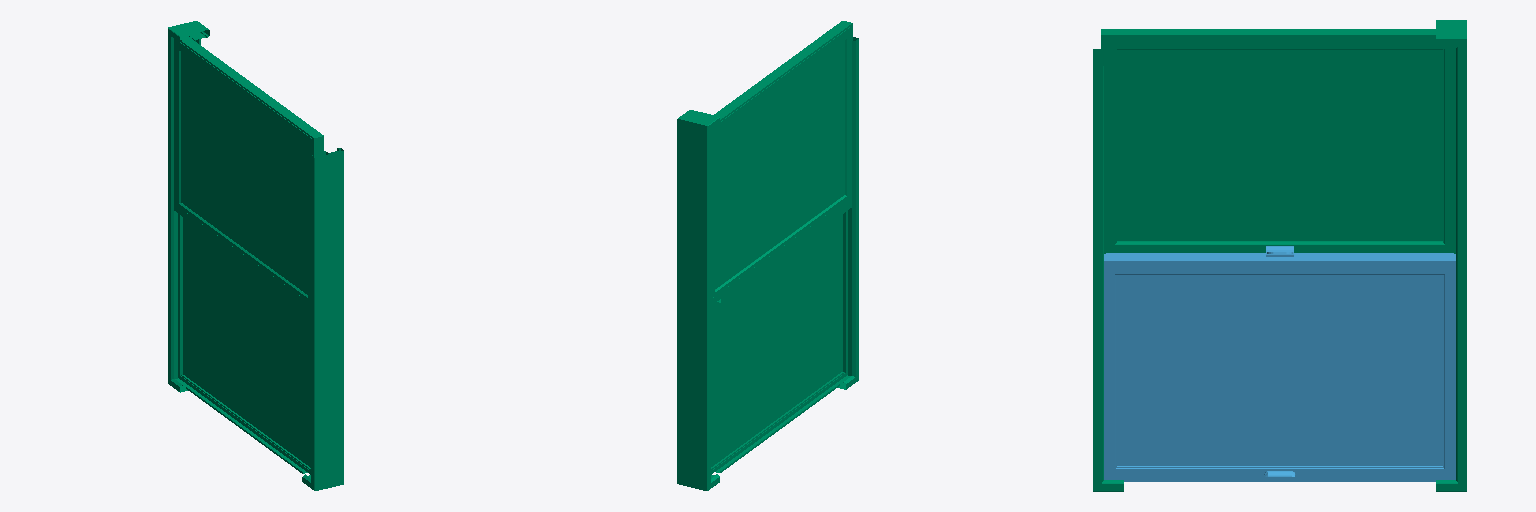
The robot description file, URDF, robot "partnet_70c46019577f4a398403d27d9479beba":
<?xml version="1.0" ?>
<robot name="partnet_70c46019577f4a398403d27d9479beba">
	<link name="base"/>
	<link name="link_0">
		<visual name="translation-1">
			<origin xyz="0 0 0"/>
			<geometry>
				<mesh filename="textured_objs/original-41.obj"/>
			</geometry>
		</visual>
		<visual name="translation-1">
			<origin xyz="0 0 0"/>
			<geometry>
				<mesh filename="textured_objs/original-36.obj"/>
			</geometry>
		</visual>
		<visual name="translation-1">
			<origin xyz="0 0 0"/>
			<geometry>
				<mesh filename="textured_objs/original-46.obj"/>
			</geometry>
		</visual>
		<visual name="translation-1">
			<origin xyz="0 0 0"/>
			<geometry>
				<mesh filename="textured_objs/original-45.obj"/>
			</geometry>
		</visual>
		<visual name="translation-1">
			<origin xyz="0 0 0"/>
			<geometry>
				<mesh filename="textured_objs/original-32.obj"/>
			</geometry>
		</visual>
		<visual name="translation-1">
			<origin xyz="0 0 0"/>
			<geometry>
				<mesh filename="textured_objs/original-37.obj"/>
			</geometry>
		</visual>
		<visual name="translation-1">
			<origin xyz="0 0 0"/>
			<geometry>
				<mesh filename="textured_objs/original-39.obj"/>
			</geometry>
		</visual>
		<visual name="translation-1">
			<origin xyz="0 0 0"/>
			<geometry>
				<mesh filename="textured_objs/original-43.obj"/>
			</geometry>
		</visual>
		<visual name="translation-1">
			<origin xyz="0 0 0"/>
			<geometry>
				<mesh filename="textured_objs/original-34.obj"/>
			</geometry>
		</visual>
		<visual name="translation-1">
			<origin xyz="0 0 0"/>
			<geometry>
				<mesh filename="textured_objs/original-35.obj"/>
			</geometry>
		</visual>
		<visual name="translation-1">
			<origin xyz="0 0 0"/>
			<geometry>
				<mesh filename="textured_objs/original-38.obj"/>
			</geometry>
		</visual>
		<visual name="translation-1">
			<origin xyz="0 0 0"/>
			<geometry>
				<mesh filename="textured_objs/original-33.obj"/>
			</geometry>
		</visual>
		<visual name="translation-1">
			<origin xyz="0 0 0"/>
			<geometry>
				<mesh filename="textured_objs/original-40.obj"/>
			</geometry>
		</visual>
		<visual name="translation-1">
			<origin xyz="0 0 0"/>
			<geometry>
				<mesh filename="textured_objs/original-42.obj"/>
			</geometry>
		</visual>
		<collision>
			<origin xyz="0 0 0"/>
			<geometry>
				<mesh filename="textured_objs/original-41.obj"/>
			</geometry>
		</collision>
		<collision>
			<origin xyz="0 0 0"/>
			<geometry>
				<mesh filename="textured_objs/original-36.obj"/>
			</geometry>
		</collision>
		<collision>
			<origin xyz="0 0 0"/>
			<geometry>
				<mesh filename="textured_objs/original-46.obj"/>
			</geometry>
		</collision>
		<collision>
			<origin xyz="0 0 0"/>
			<geometry>
				<mesh filename="textured_objs/original-45.obj"/>
			</geometry>
		</collision>
		<collision>
			<origin xyz="0 0 0"/>
			<geometry>
				<mesh filename="textured_objs/original-32.obj"/>
			</geometry>
		</collision>
		<collision>
			<origin xyz="0 0 0"/>
			<geometry>
				<mesh filename="textured_objs/original-37.obj"/>
			</geometry>
		</collision>
		<collision>
			<origin xyz="0 0 0"/>
			<geometry>
				<mesh filename="textured_objs/original-39.obj"/>
			</geometry>
		</collision>
		<collision>
			<origin xyz="0 0 0"/>
			<geometry>
				<mesh filename="textured_objs/original-43.obj"/>
			</geometry>
		</collision>
		<collision>
			<origin xyz="0 0 0"/>
			<geometry>
				<mesh filename="textured_objs/original-34.obj"/>
			</geometry>
		</collision>
		<collision>
			<origin xyz="0 0 0"/>
			<geometry>
				<mesh filename="textured_objs/original-35.obj"/>
			</geometry>
		</collision>
		<collision>
			<origin xyz="0 0 0"/>
			<geometry>
				<mesh filename="textured_objs/original-38.obj"/>
			</geometry>
		</collision>
		<collision>
			<origin xyz="0 0 0"/>
			<geometry>
				<mesh filename="textured_objs/original-33.obj"/>
			</geometry>
		</collision>
		<collision>
			<origin xyz="0 0 0"/>
			<geometry>
				<mesh filename="textured_objs/original-40.obj"/>
			</geometry>
		</collision>
		<collision>
			<origin xyz="0 0 0"/>
			<geometry>
				<mesh filename="textured_objs/original-42.obj"/>
			</geometry>
		</collision>
	</link>
	<joint name="joint_0" type="prismatic">
		<origin xyz="0 0 0"/>
		<axis xyz="0 -1 0"/>
		<child link="link_0"/>
		<parent link="link_1"/>
		<limit lower="-0.7000000000000002" upper="0"/>
	</joint>
	<link name="link_1">
		<visual name="base_body-2">
			<origin xyz="0 0 0"/>
			<geometry>
				<mesh filename="textured_objs/original-29.obj"/>
			</geometry>
		</visual>
		<visual name="base_body-2">
			<origin xyz="0 0 0"/>
			<geometry>
				<mesh filename="textured_objs/original-21.obj"/>
			</geometry>
		</visual>
		<visual name="base_body-2">
			<origin xyz="0 0 0"/>
			<geometry>
				<mesh filename="textured_objs/original-30.obj"/>
			</geometry>
		</visual>
		<visual name="base_body-2">
			<origin xyz="0 0 0"/>
			<geometry>
				<mesh filename="textured_objs/original-28.obj"/>
			</geometry>
		</visual>
		<visual name="base_body-2">
			<origin xyz="0 0 0"/>
			<geometry>
				<mesh filename="textured_objs/original-52.obj"/>
			</geometry>
		</visual>
		<visual name="base_body-2">
			<origin xyz="0 0 0"/>
			<geometry>
				<mesh filename="textured_objs/original-22.obj"/>
			</geometry>
		</visual>
		<visual name="base_body-2">
			<origin xyz="0 0 0"/>
			<geometry>
				<mesh filename="textured_objs/original-26.obj"/>
			</geometry>
		</visual>
		<visual name="base_body-2">
			<origin xyz="0 0 0"/>
			<geometry>
				<mesh filename="textured_objs/original-4.obj"/>
			</geometry>
		</visual>
		<visual name="base_body-2">
			<origin xyz="0 0 0"/>
			<geometry>
				<mesh filename="textured_objs/original-3.obj"/>
			</geometry>
		</visual>
		<visual name="base_body-2">
			<origin xyz="0 0 0"/>
			<geometry>
				<mesh filename="textured_objs/original-2.obj"/>
			</geometry>
		</visual>
		<visual name="base_body-2">
			<origin xyz="0 0 0"/>
			<geometry>
				<mesh filename="textured_objs/original-16.obj"/>
			</geometry>
		</visual>
		<visual name="base_body-2">
			<origin xyz="0 0 0"/>
			<geometry>
				<mesh filename="textured_objs/original-8.obj"/>
			</geometry>
		</visual>
		<visual name="base_body-2">
			<origin xyz="0 0 0"/>
			<geometry>
				<mesh filename="textured_objs/original-13.obj"/>
			</geometry>
		</visual>
		<visual name="base_body-2">
			<origin xyz="0 0 0"/>
			<geometry>
				<mesh filename="textured_objs/original-9.obj"/>
			</geometry>
		</visual>
		<visual name="base_body-2">
			<origin xyz="0 0 0"/>
			<geometry>
				<mesh filename="textured_objs/original-49.obj"/>
			</geometry>
		</visual>
		<visual name="base_body-2">
			<origin xyz="0 0 0"/>
			<geometry>
				<mesh filename="textured_objs/original-5.obj"/>
			</geometry>
		</visual>
		<visual name="base_body-2">
			<origin xyz="0 0 0"/>
			<geometry>
				<mesh filename="textured_objs/original-54.obj"/>
			</geometry>
		</visual>
		<visual name="base_body-2">
			<origin xyz="0 0 0"/>
			<geometry>
				<mesh filename="textured_objs/original-27.obj"/>
			</geometry>
		</visual>
		<visual name="base_body-2">
			<origin xyz="0 0 0"/>
			<geometry>
				<mesh filename="textured_objs/original-51.obj"/>
			</geometry>
		</visual>
		<visual name="base_body-2">
			<origin xyz="0 0 0"/>
			<geometry>
				<mesh filename="textured_objs/original-55.obj"/>
			</geometry>
		</visual>
		<visual name="base_body-2">
			<origin xyz="0 0 0"/>
			<geometry>
				<mesh filename="textured_objs/original-50.obj"/>
			</geometry>
		</visual>
		<visual name="base_body-2">
			<origin xyz="0 0 0"/>
			<geometry>
				<mesh filename="textured_objs/original-6.obj"/>
			</geometry>
		</visual>
		<visual name="base_body-2">
			<origin xyz="0 0 0"/>
			<geometry>
				<mesh filename="textured_objs/original-48.obj"/>
			</geometry>
		</visual>
		<visual name="base_body-2">
			<origin xyz="0 0 0"/>
			<geometry>
				<mesh filename="textured_objs/original-15.obj"/>
			</geometry>
		</visual>
		<visual name="base_body-2">
			<origin xyz="0 0 0"/>
			<geometry>
				<mesh filename="textured_objs/original-56.obj"/>
			</geometry>
		</visual>
		<visual name="base_body-2">
			<origin xyz="0 0 0"/>
			<geometry>
				<mesh filename="textured_objs/original-23.obj"/>
			</geometry>
		</visual>
		<visual name="base_body-2">
			<origin xyz="0 0 0"/>
			<geometry>
				<mesh filename="textured_objs/original-11.obj"/>
			</geometry>
		</visual>
		<visual name="base_body-2">
			<origin xyz="0 0 0"/>
			<geometry>
				<mesh filename="textured_objs/original-18.obj"/>
			</geometry>
		</visual>
		<visual name="base_body-2">
			<origin xyz="0 0 0"/>
			<geometry>
				<mesh filename="textured_objs/original-25.obj"/>
			</geometry>
		</visual>
		<visual name="base_body-2">
			<origin xyz="0 0 0"/>
			<geometry>
				<mesh filename="textured_objs/original-17.obj"/>
			</geometry>
		</visual>
		<visual name="base_body-2">
			<origin xyz="0 0 0"/>
			<geometry>
				<mesh filename="textured_objs/original-12.obj"/>
			</geometry>
		</visual>
		<visual name="base_body-2">
			<origin xyz="0 0 0"/>
			<geometry>
				<mesh filename="textured_objs/original-24.obj"/>
			</geometry>
		</visual>
		<visual name="base_body-2">
			<origin xyz="0 0 0"/>
			<geometry>
				<mesh filename="textured_objs/original-20.obj"/>
			</geometry>
		</visual>
		<visual name="base_body-2">
			<origin xyz="0 0 0"/>
			<geometry>
				<mesh filename="textured_objs/original-53.obj"/>
			</geometry>
		</visual>
		<visual name="base_body-2">
			<origin xyz="0 0 0"/>
			<geometry>
				<mesh filename="textured_objs/original-7.obj"/>
			</geometry>
		</visual>
		<visual name="base_body-2">
			<origin xyz="0 0 0"/>
			<geometry>
				<mesh filename="textured_objs/original-14.obj"/>
			</geometry>
		</visual>
		<collision>
			<origin xyz="0 0 0"/>
			<geometry>
				<mesh filename="textured_objs/original-29.obj"/>
			</geometry>
		</collision>
		<collision>
			<origin xyz="0 0 0"/>
			<geometry>
				<mesh filename="textured_objs/original-21.obj"/>
			</geometry>
		</collision>
		<collision>
			<origin xyz="0 0 0"/>
			<geometry>
				<mesh filename="textured_objs/original-30.obj"/>
			</geometry>
		</collision>
		<collision>
			<origin xyz="0 0 0"/>
			<geometry>
				<mesh filename="textured_objs/original-28.obj"/>
			</geometry>
		</collision>
		<collision>
			<origin xyz="0 0 0"/>
			<geometry>
				<mesh filename="textured_objs/original-52.obj"/>
			</geometry>
		</collision>
		<collision>
			<origin xyz="0 0 0"/>
			<geometry>
				<mesh filename="textured_objs/original-22.obj"/>
			</geometry>
		</collision>
		<collision>
			<origin xyz="0 0 0"/>
			<geometry>
				<mesh filename="textured_objs/original-26.obj"/>
			</geometry>
		</collision>
		<collision>
			<origin xyz="0 0 0"/>
			<geometry>
				<mesh filename="textured_objs/original-4.obj"/>
			</geometry>
		</collision>
		<collision>
			<origin xyz="0 0 0"/>
			<geometry>
				<mesh filename="textured_objs/original-3.obj"/>
			</geometry>
		</collision>
		<collision>
			<origin xyz="0 0 0"/>
			<geometry>
				<mesh filename="textured_objs/original-2.obj"/>
			</geometry>
		</collision>
		<collision>
			<origin xyz="0 0 0"/>
			<geometry>
				<mesh filename="textured_objs/original-16.obj"/>
			</geometry>
		</collision>
		<collision>
			<origin xyz="0 0 0"/>
			<geometry>
				<mesh filename="textured_objs/original-8.obj"/>
			</geometry>
		</collision>
		<collision>
			<origin xyz="0 0 0"/>
			<geometry>
				<mesh filename="textured_objs/original-13.obj"/>
			</geometry>
		</collision>
		<collision>
			<origin xyz="0 0 0"/>
			<geometry>
				<mesh filename="textured_objs/original-9.obj"/>
			</geometry>
		</collision>
		<collision>
			<origin xyz="0 0 0"/>
			<geometry>
				<mesh filename="textured_objs/original-49.obj"/>
			</geometry>
		</collision>
		<collision>
			<origin xyz="0 0 0"/>
			<geometry>
				<mesh filename="textured_objs/original-5.obj"/>
			</geometry>
		</collision>
		<collision>
			<origin xyz="0 0 0"/>
			<geometry>
				<mesh filename="textured_objs/original-54.obj"/>
			</geometry>
		</collision>
		<collision>
			<origin xyz="0 0 0"/>
			<geometry>
				<mesh filename="textured_objs/original-27.obj"/>
			</geometry>
		</collision>
		<collision>
			<origin xyz="0 0 0"/>
			<geometry>
				<mesh filename="textured_objs/original-51.obj"/>
			</geometry>
		</collision>
		<collision>
			<origin xyz="0 0 0"/>
			<geometry>
				<mesh filename="textured_objs/original-55.obj"/>
			</geometry>
		</collision>
		<collision>
			<origin xyz="0 0 0"/>
			<geometry>
				<mesh filename="textured_objs/original-50.obj"/>
			</geometry>
		</collision>
		<collision>
			<origin xyz="0 0 0"/>
			<geometry>
				<mesh filename="textured_objs/original-6.obj"/>
			</geometry>
		</collision>
		<collision>
			<origin xyz="0 0 0"/>
			<geometry>
				<mesh filename="textured_objs/original-48.obj"/>
			</geometry>
		</collision>
		<collision>
			<origin xyz="0 0 0"/>
			<geometry>
				<mesh filename="textured_objs/original-15.obj"/>
			</geometry>
		</collision>
		<collision>
			<origin xyz="0 0 0"/>
			<geometry>
				<mesh filename="textured_objs/original-56.obj"/>
			</geometry>
		</collision>
		<collision>
			<origin xyz="0 0 0"/>
			<geometry>
				<mesh filename="textured_objs/original-23.obj"/>
			</geometry>
		</collision>
		<collision>
			<origin xyz="0 0 0"/>
			<geometry>
				<mesh filename="textured_objs/original-11.obj"/>
			</geometry>
		</collision>
		<collision>
			<origin xyz="0 0 0"/>
			<geometry>
				<mesh filename="textured_objs/original-18.obj"/>
			</geometry>
		</collision>
		<collision>
			<origin xyz="0 0 0"/>
			<geometry>
				<mesh filename="textured_objs/original-25.obj"/>
			</geometry>
		</collision>
		<collision>
			<origin xyz="0 0 0"/>
			<geometry>
				<mesh filename="textured_objs/original-17.obj"/>
			</geometry>
		</collision>
		<collision>
			<origin xyz="0 0 0"/>
			<geometry>
				<mesh filename="textured_objs/original-12.obj"/>
			</geometry>
		</collision>
		<collision>
			<origin xyz="0 0 0"/>
			<geometry>
				<mesh filename="textured_objs/original-24.obj"/>
			</geometry>
		</collision>
		<collision>
			<origin xyz="0 0 0"/>
			<geometry>
				<mesh filename="textured_objs/original-20.obj"/>
			</geometry>
		</collision>
		<collision>
			<origin xyz="0 0 0"/>
			<geometry>
				<mesh filename="textured_objs/original-53.obj"/>
			</geometry>
		</collision>
		<collision>
			<origin xyz="0 0 0"/>
			<geometry>
				<mesh filename="textured_objs/original-7.obj"/>
			</geometry>
		</collision>
		<collision>
			<origin xyz="0 0 0"/>
			<geometry>
				<mesh filename="textured_objs/original-14.obj"/>
			</geometry>
		</collision>
	</link>
	<joint name="joint_1" type="fixed">
		<origin rpy="1.570796326794897 0 -1.570796326794897" xyz="0 0 0"/>
		<child link="link_1"/>
		<parent link="base"/>
	</joint>
</robot>

--- Render facts (derived) ---
Views: 3 orthographic renders of the robot side by side, from view 1: azimuth 30°, elevation 25°; view 2: azimuth 150°, elevation 25°; view 3: azimuth 270°, elevation 25°.
Model partnet_70c46019577f4a398403d27d9479beba with 3 links and 2 joints (1 prismatic, 1 fixed), rooted at base, posed all joints at 0.
Links seen in each view (by area): view 1: link_1; view 2: link_1; view 3: link_1, link_0.
Link boxes in pixels (x1,y1,x2,y2): link_1: [168, 21, 343, 490]; link_1: [677, 21, 858, 490]; link_1: [1093, 20, 1466, 491]; link_0: [1104, 246, 1455, 481].
Size in the robot's own frame: 0.1417 by 1.17 by 1.56 metres.
Meshes: 50 distinct files referenced, 43 mesh visuals loaded (43 OBJ); not drawn: 7 (reference not matched to a file when rendering).